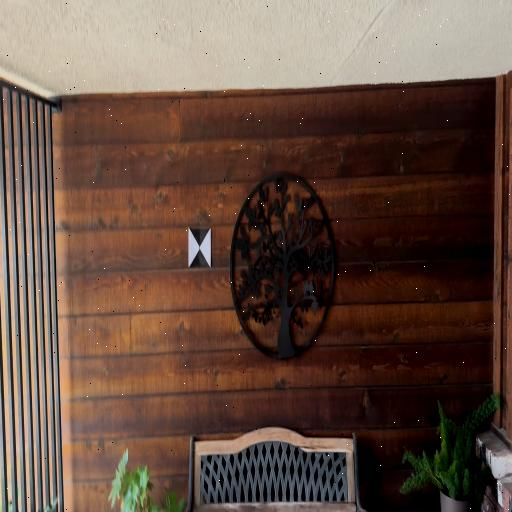target: (188, 227, 211, 267)
